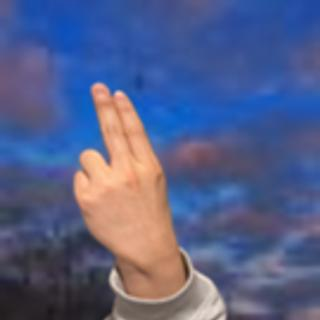DHAVE: (62, 72, 184, 263)
